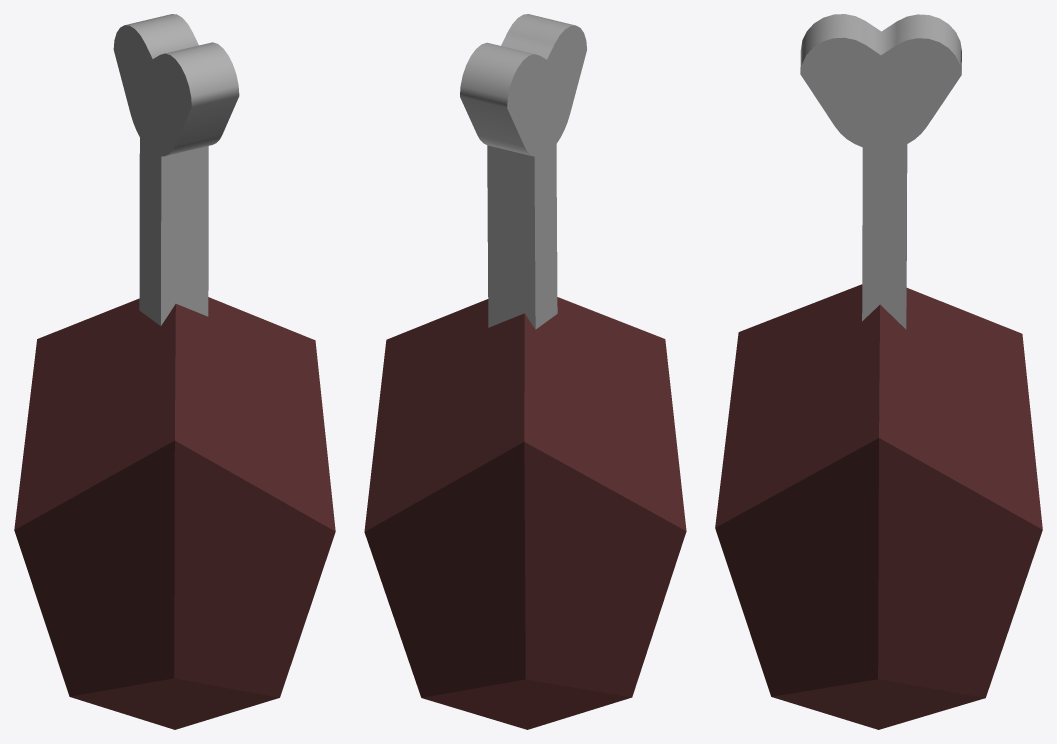
The model's file is Meat.fbx.
3 renders of one model, left to right at view 1: azimuth 30°, elevation 25°; view 2: azimuth 150°, elevation 25°; view 3: azimuth 270°, elevation 25°, orthographic.
Parts seen in each view (by area): view 1: pCube5; view 2: pCube5; view 3: pCube5.
Part boxes in pixels (x1,y1,x2,y2): pCube5: (14, 14, 335, 729); pCube5: (364, 14, 686, 729); pCube5: (715, 14, 1042, 729).
Size of the model in its own units: 3.15 by 6.94 by 2.92.
